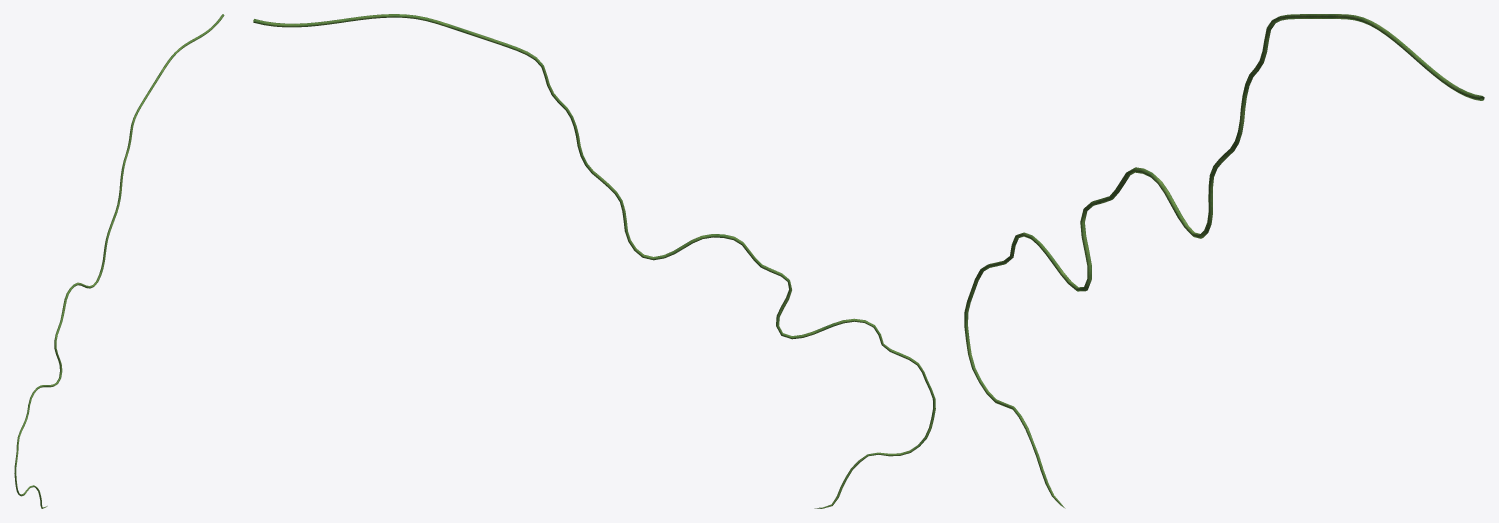
The model's file is SM_ENV_KNFRST_WireMeshIvy_A.FBX.
The picture shows the model from 3 angles, left to right: view 1: azimuth 30°, elevation 25°; view 2: azimuth 150°, elevation 25°; view 3: azimuth 270°, elevation 25°; orthographic projection. The views are drawn at different scales.
Visible parts, largest first — view 1: SM_ENV_KNFRST_WireMeshIvy_A; view 2: SM_ENV_KNFRST_WireMeshIvy_A; view 3: SM_ENV_KNFRST_WireMeshIvy_A.
Part boxes in pixels (box(x1,y1,x2,y2)): SM_ENV_KNFRST_WireMeshIvy_A: box(14, 14, 224, 508); SM_ENV_KNFRST_WireMeshIvy_A: box(253, 14, 935, 508); SM_ENV_KNFRST_WireMeshIvy_A: box(964, 14, 1484, 508).
Bounding box in the file's own units: 3234 × 3159 × 2171.
